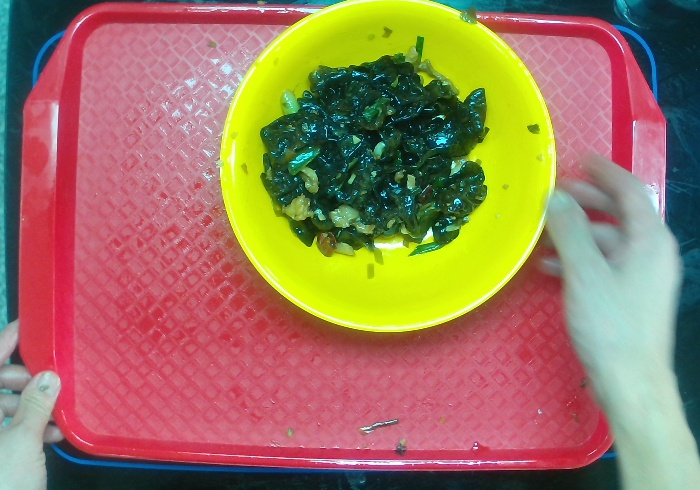YKMZ-Huang_Se_Tang_Wan: (213, 1, 565, 350)
